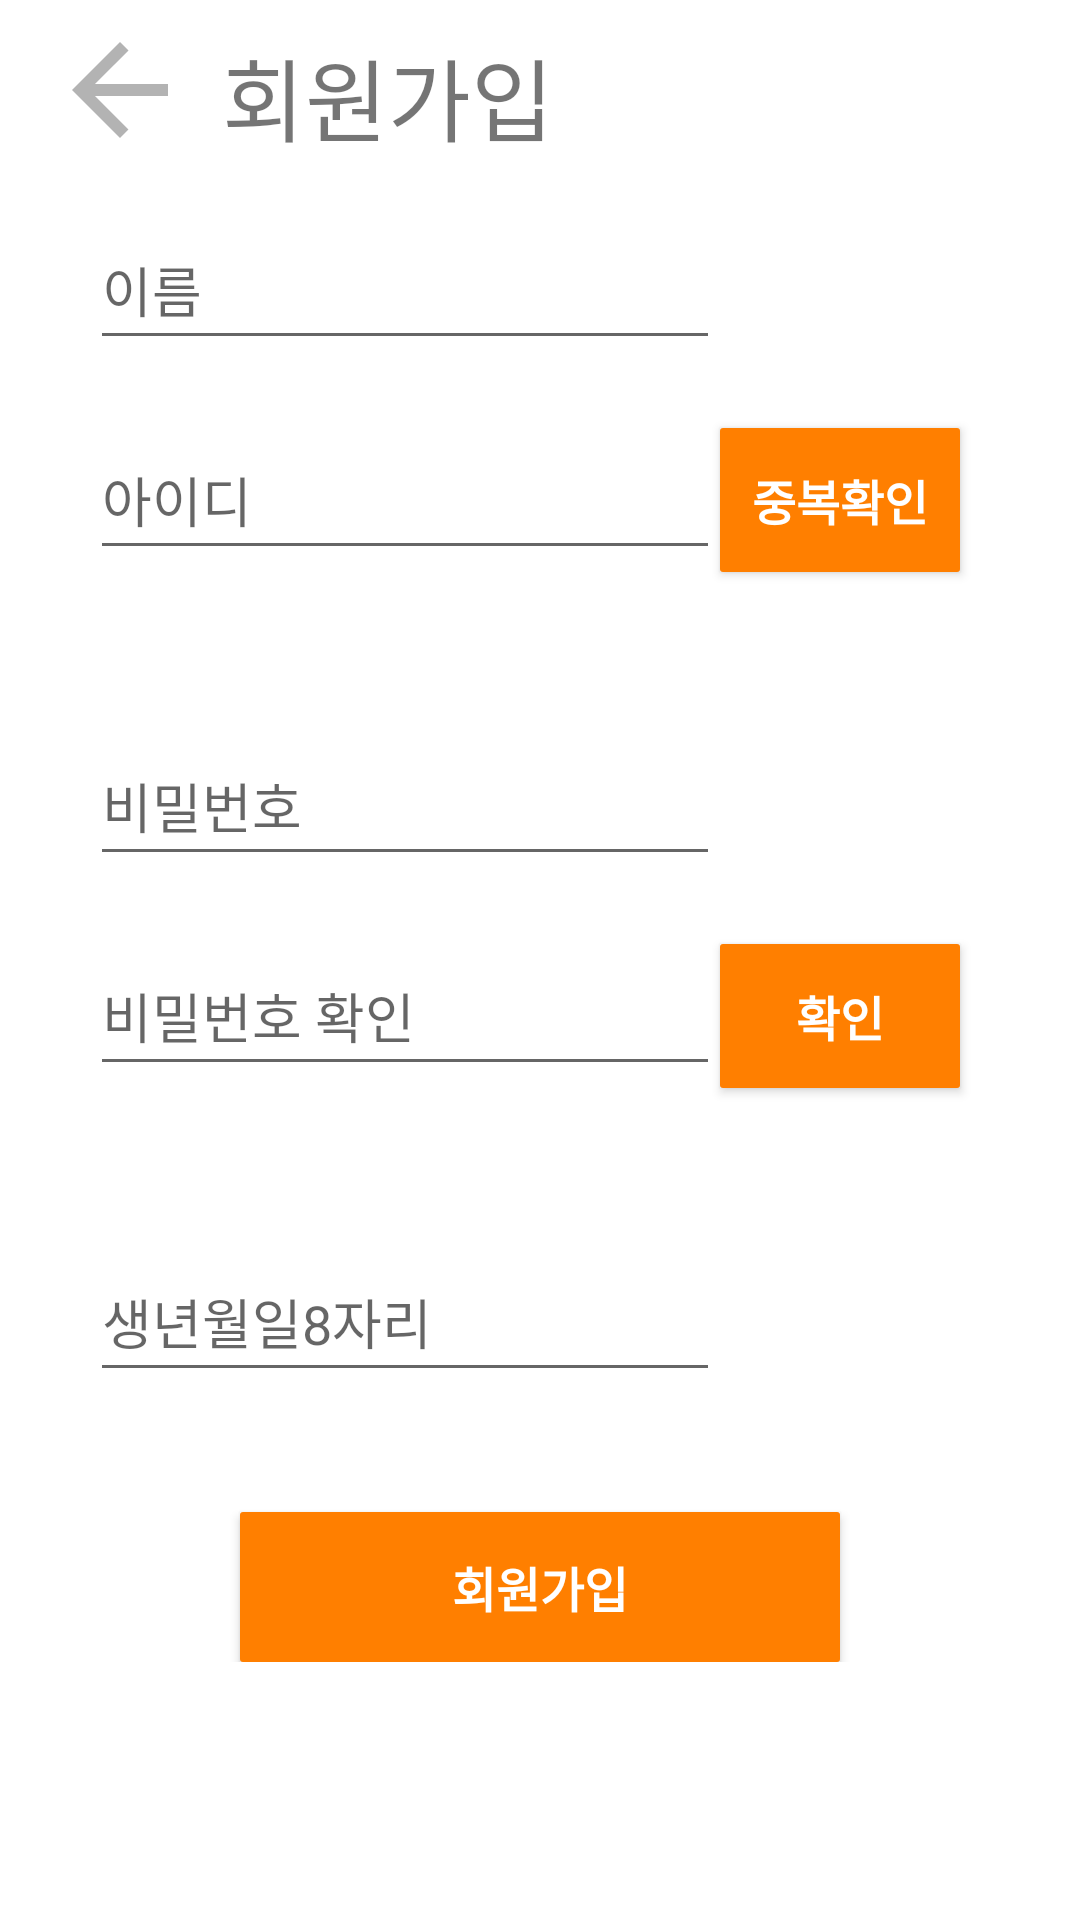

Where icons sit on this 1080px x 1920px app screen, as (x1, y1, x2, y2):
arrow back: (72, 42, 168, 138)
